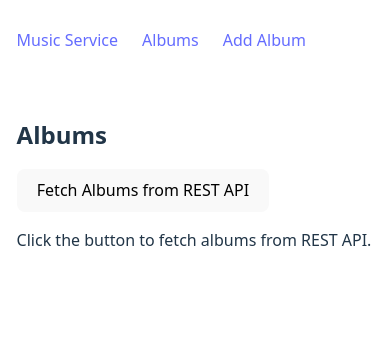
Test: Albums List › fetches and displays albums when button clicked
Click the button "Fetch Albums from REST API": (144, 191) [17,169,270,212]
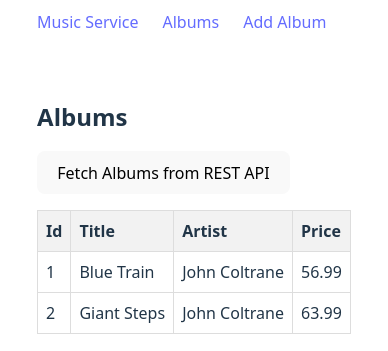
Now the table is shown, box [37,210,351,334]
Now the column heading "Id" is shown, box [38,211,71,252]
Now the column heading "Title" is shown, box [71,211,174,252]
